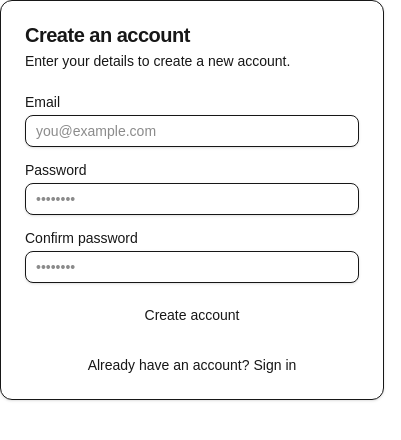
Test: SignUpFormView › validation › shows password mismatch error when passwords do not match
Type "user@example.com" into the field with placeholder "you@example.com". click: (192, 131)
box: [25,115,359,147]
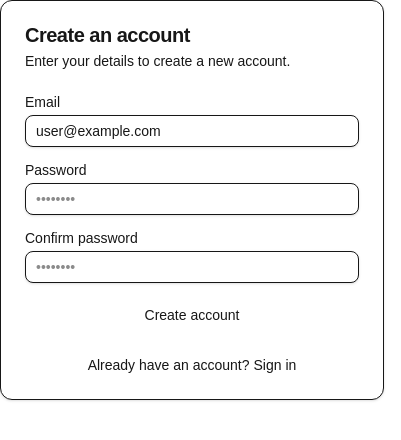
Type "password123" into the password field labelled "Password". click: (192, 199)
box: [25,183,359,215]
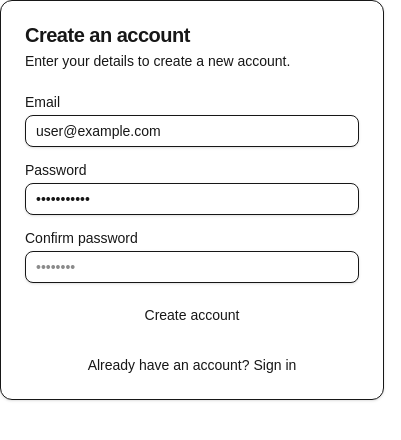
Type "different123" into the password field labelled "Confirm password". click: (192, 267)
box: [25,251,359,283]
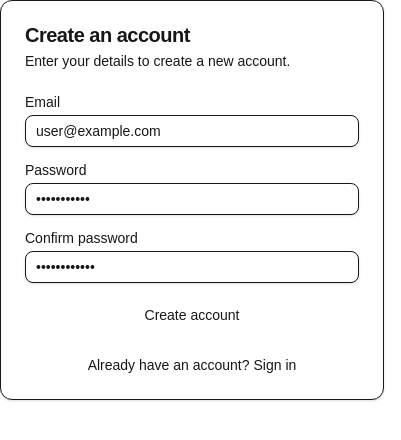
Submit the form with placeholder "you@example.com", box [25,95,359,331]
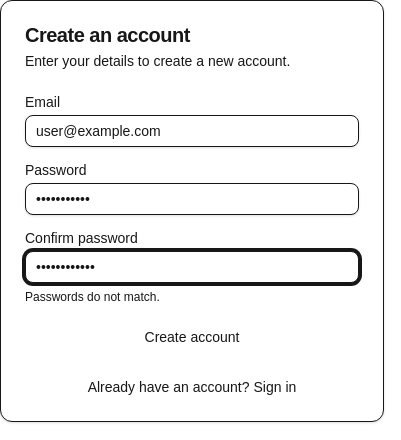
Expected: the text "Passwords do not match." is shown, [25,290,160,304]
